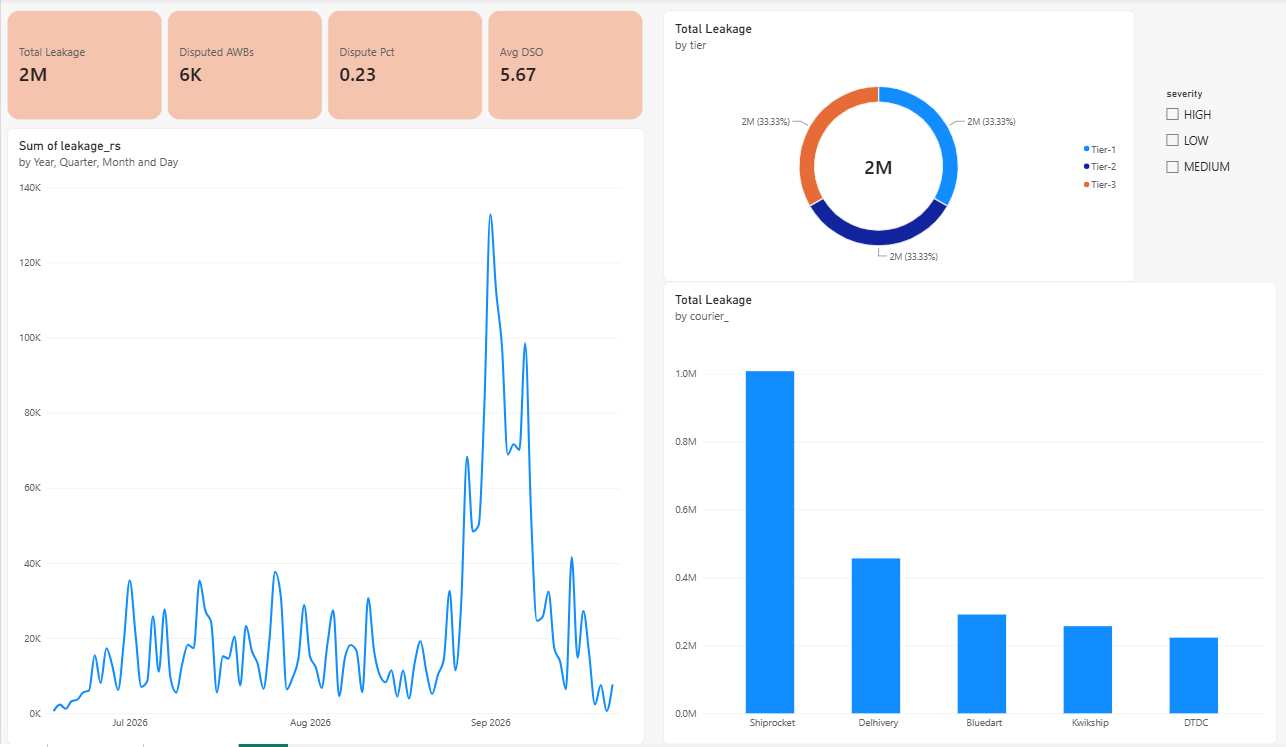

Layout of this report page (visuals, bound fields, positions):
{"tool":"powerbi","page":{"name":"Page 1","canvas":[1920,1080],"ordinal":0},"visuals":[{"type":"cardVisual","fields":{"Data":["courier_scorecard.Total Leakage","courier_scorecard.Disputed AWBs","courier_scorecard.Dispute Pct","courier_scorecard.Avg DSO"]},"box":[9.2,0,922.4,158.3],"z":0},{"type":"lineChart","fields":{"Category":["kpi_daily.kpi_date.Variation.Date Hierarchy.Year","kpi_daily.kpi_date.Variation.Date Hierarchy.Quarter","kpi_daily.kpi_date.Variation.Date Hierarchy.Month","kpi_daily.kpi_date.Variation.Date Hierarchy.Day"],"Y":["Sum(kpi_daily.leakage_rs)"]},"box":[9.2,188.1,922.4,892.5],"z":1000},{"type":"columnChart","fields":{"Category":["courier_scorecard.courier_"],"Y":["courier_scorecard.Total Leakage"]},"box":[959.1,410.7,888,670],"z":1001},{"type":"donutChart","fields":{"Category":["kpi_daily.tier"],"Y":["courier_scorecard.Total Leakage"]},"box":[959.1,0,681.5,410.7],"z":1002},{"type":"slicer","fields":{"Values":["discrepancies.severity"]},"box":[1679.5,130.8,211.1,181.3],"z":1003}]}

Visuals, with their boxes on the page's 1920x1080 design canvas (x1, y1, x2, y2). These are canvas units, not pixel positions in the 1286x747 screenshot, which may show the page scaled, cropped or inside an application window:
cardVisual - courier_scorecard.Total Leakage x courier_scorecard.Disputed AWBs: {"left": 9, "top": 0, "right": 932, "bottom": 158}
lineChart - kpi_daily.kpi_date.Variation.Date Hierarchy.Year x kpi_daily.kpi_date.Variation.Date Hierarchy.Quarter: {"left": 9, "top": 188, "right": 932, "bottom": 1081}
columnChart - courier_scorecard.courier_ x courier_scorecard.Total Leakage: {"left": 959, "top": 411, "right": 1847, "bottom": 1081}
donutChart - kpi_daily.tier x courier_scorecard.Total Leakage: {"left": 959, "top": 0, "right": 1641, "bottom": 411}
slicer - discrepancies.severity: {"left": 1680, "top": 131, "right": 1891, "bottom": 312}
